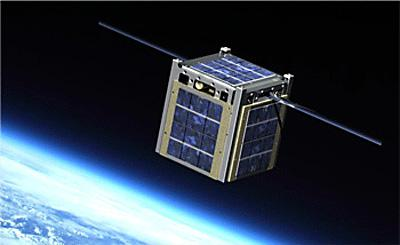body: (153, 44, 297, 186)
solar: (269, 94, 385, 148), (163, 85, 226, 180), (233, 100, 286, 180), (97, 20, 187, 62), (188, 53, 279, 88)
